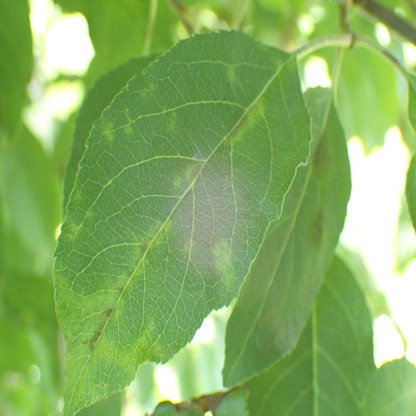scab: (53, 218, 169, 416), (223, 98, 264, 147), (212, 241, 233, 287), (312, 135, 331, 179), (305, 208, 323, 253), (186, 161, 201, 181), (102, 118, 115, 140), (121, 108, 132, 133), (64, 221, 79, 239), (140, 82, 155, 98), (168, 110, 177, 132), (227, 65, 237, 84), (74, 186, 83, 201), (183, 241, 194, 251), (174, 173, 181, 186), (85, 211, 92, 217)
